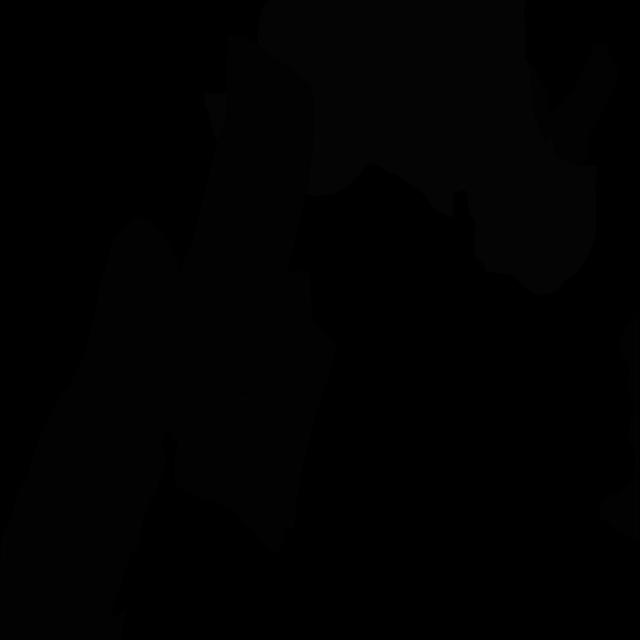cardboard: (0, 217, 193, 640), (164, 35, 315, 396), (172, 269, 337, 553), (525, 44, 619, 167), (598, 311, 639, 543)
soft_plastic: (258, 0, 598, 295), (204, 90, 227, 140)
